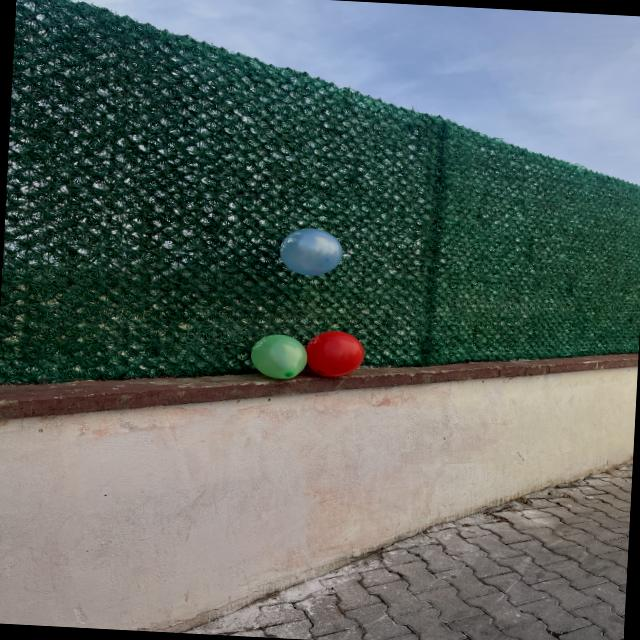balloon: (280, 229, 342, 276), (306, 331, 364, 377), (251, 335, 307, 379)
